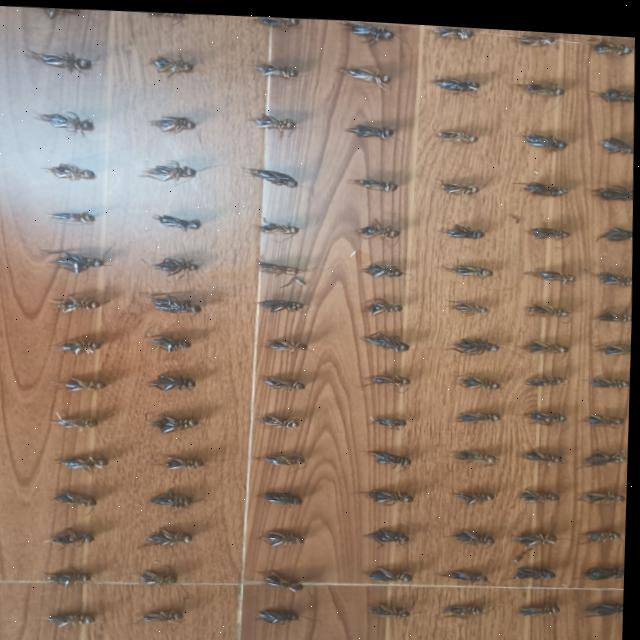no: (352, 214, 390, 235), (50, 251, 88, 272), (150, 366, 183, 390), (144, 158, 180, 179), (453, 330, 490, 350), (37, 111, 78, 129), (53, 524, 83, 548), (360, 327, 401, 344), (48, 566, 81, 587), (364, 366, 403, 383), (57, 410, 88, 431), (155, 251, 186, 272), (254, 255, 290, 273), (53, 488, 87, 507), (148, 525, 182, 544), (252, 162, 284, 182), (53, 291, 85, 311), (155, 292, 187, 312), (522, 332, 559, 349), (253, 57, 287, 75), (146, 52, 182, 69), (259, 294, 297, 310), (364, 482, 399, 499), (342, 62, 379, 78), (261, 524, 292, 543), (31, 52, 73, 66), (150, 111, 179, 131), (453, 522, 487, 539), (348, 116, 380, 134), (427, 72, 465, 87), (61, 454, 91, 473), (58, 336, 88, 355), (150, 330, 177, 351), (511, 25, 546, 41), (259, 407, 288, 426), (261, 602, 290, 621), (592, 81, 631, 95), (522, 481, 554, 498), (262, 566, 294, 583), (367, 444, 403, 459), (259, 213, 286, 233), (155, 412, 185, 430), (155, 487, 183, 506), (599, 130, 632, 146), (362, 294, 393, 311), (598, 334, 633, 349), (261, 372, 293, 388), (251, 110, 285, 125), (261, 484, 291, 501), (600, 176, 628, 194), (342, 17, 378, 31), (446, 256, 477, 272), (368, 524, 399, 540), (590, 33, 623, 48), (600, 220, 633, 235), (436, 176, 469, 191), (368, 598, 401, 613), (432, 124, 470, 137), (523, 442, 558, 456), (590, 594, 622, 609), (266, 334, 298, 349), (142, 606, 172, 622), (50, 609, 80, 625), (442, 219, 476, 233), (525, 297, 559, 311), (517, 523, 545, 540), (46, 163, 80, 177), (522, 173, 553, 188), (582, 521, 613, 536), (153, 210, 184, 225), (363, 257, 392, 273), (62, 376, 91, 392), (521, 126, 554, 140), (595, 263, 628, 277), (370, 564, 403, 578), (352, 173, 387, 186), (368, 409, 400, 423), (517, 76, 554, 88), (446, 563, 480, 576), (587, 559, 616, 574), (450, 295, 481, 309), (528, 367, 555, 383), (168, 452, 193, 469), (598, 302, 626, 317), (261, 449, 291, 463), (54, 208, 82, 223), (589, 370, 623, 382), (142, 567, 166, 584), (448, 597, 475, 612), (252, 13, 285, 25), (586, 444, 614, 458), (529, 219, 558, 232), (431, 20, 460, 33), (458, 371, 492, 382), (586, 484, 617, 496), (457, 405, 488, 417), (537, 262, 565, 275), (459, 484, 485, 498), (516, 560, 546, 572), (458, 443, 482, 457), (524, 597, 549, 610), (590, 406, 613, 419), (528, 405, 554, 414), (24, 6, 60, 11), (139, 10, 169, 16)
